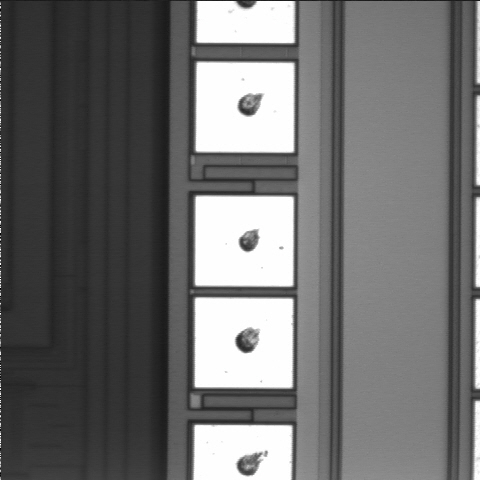pad: (195, 196, 294, 286), (196, 62, 294, 152), (195, 298, 293, 388)
